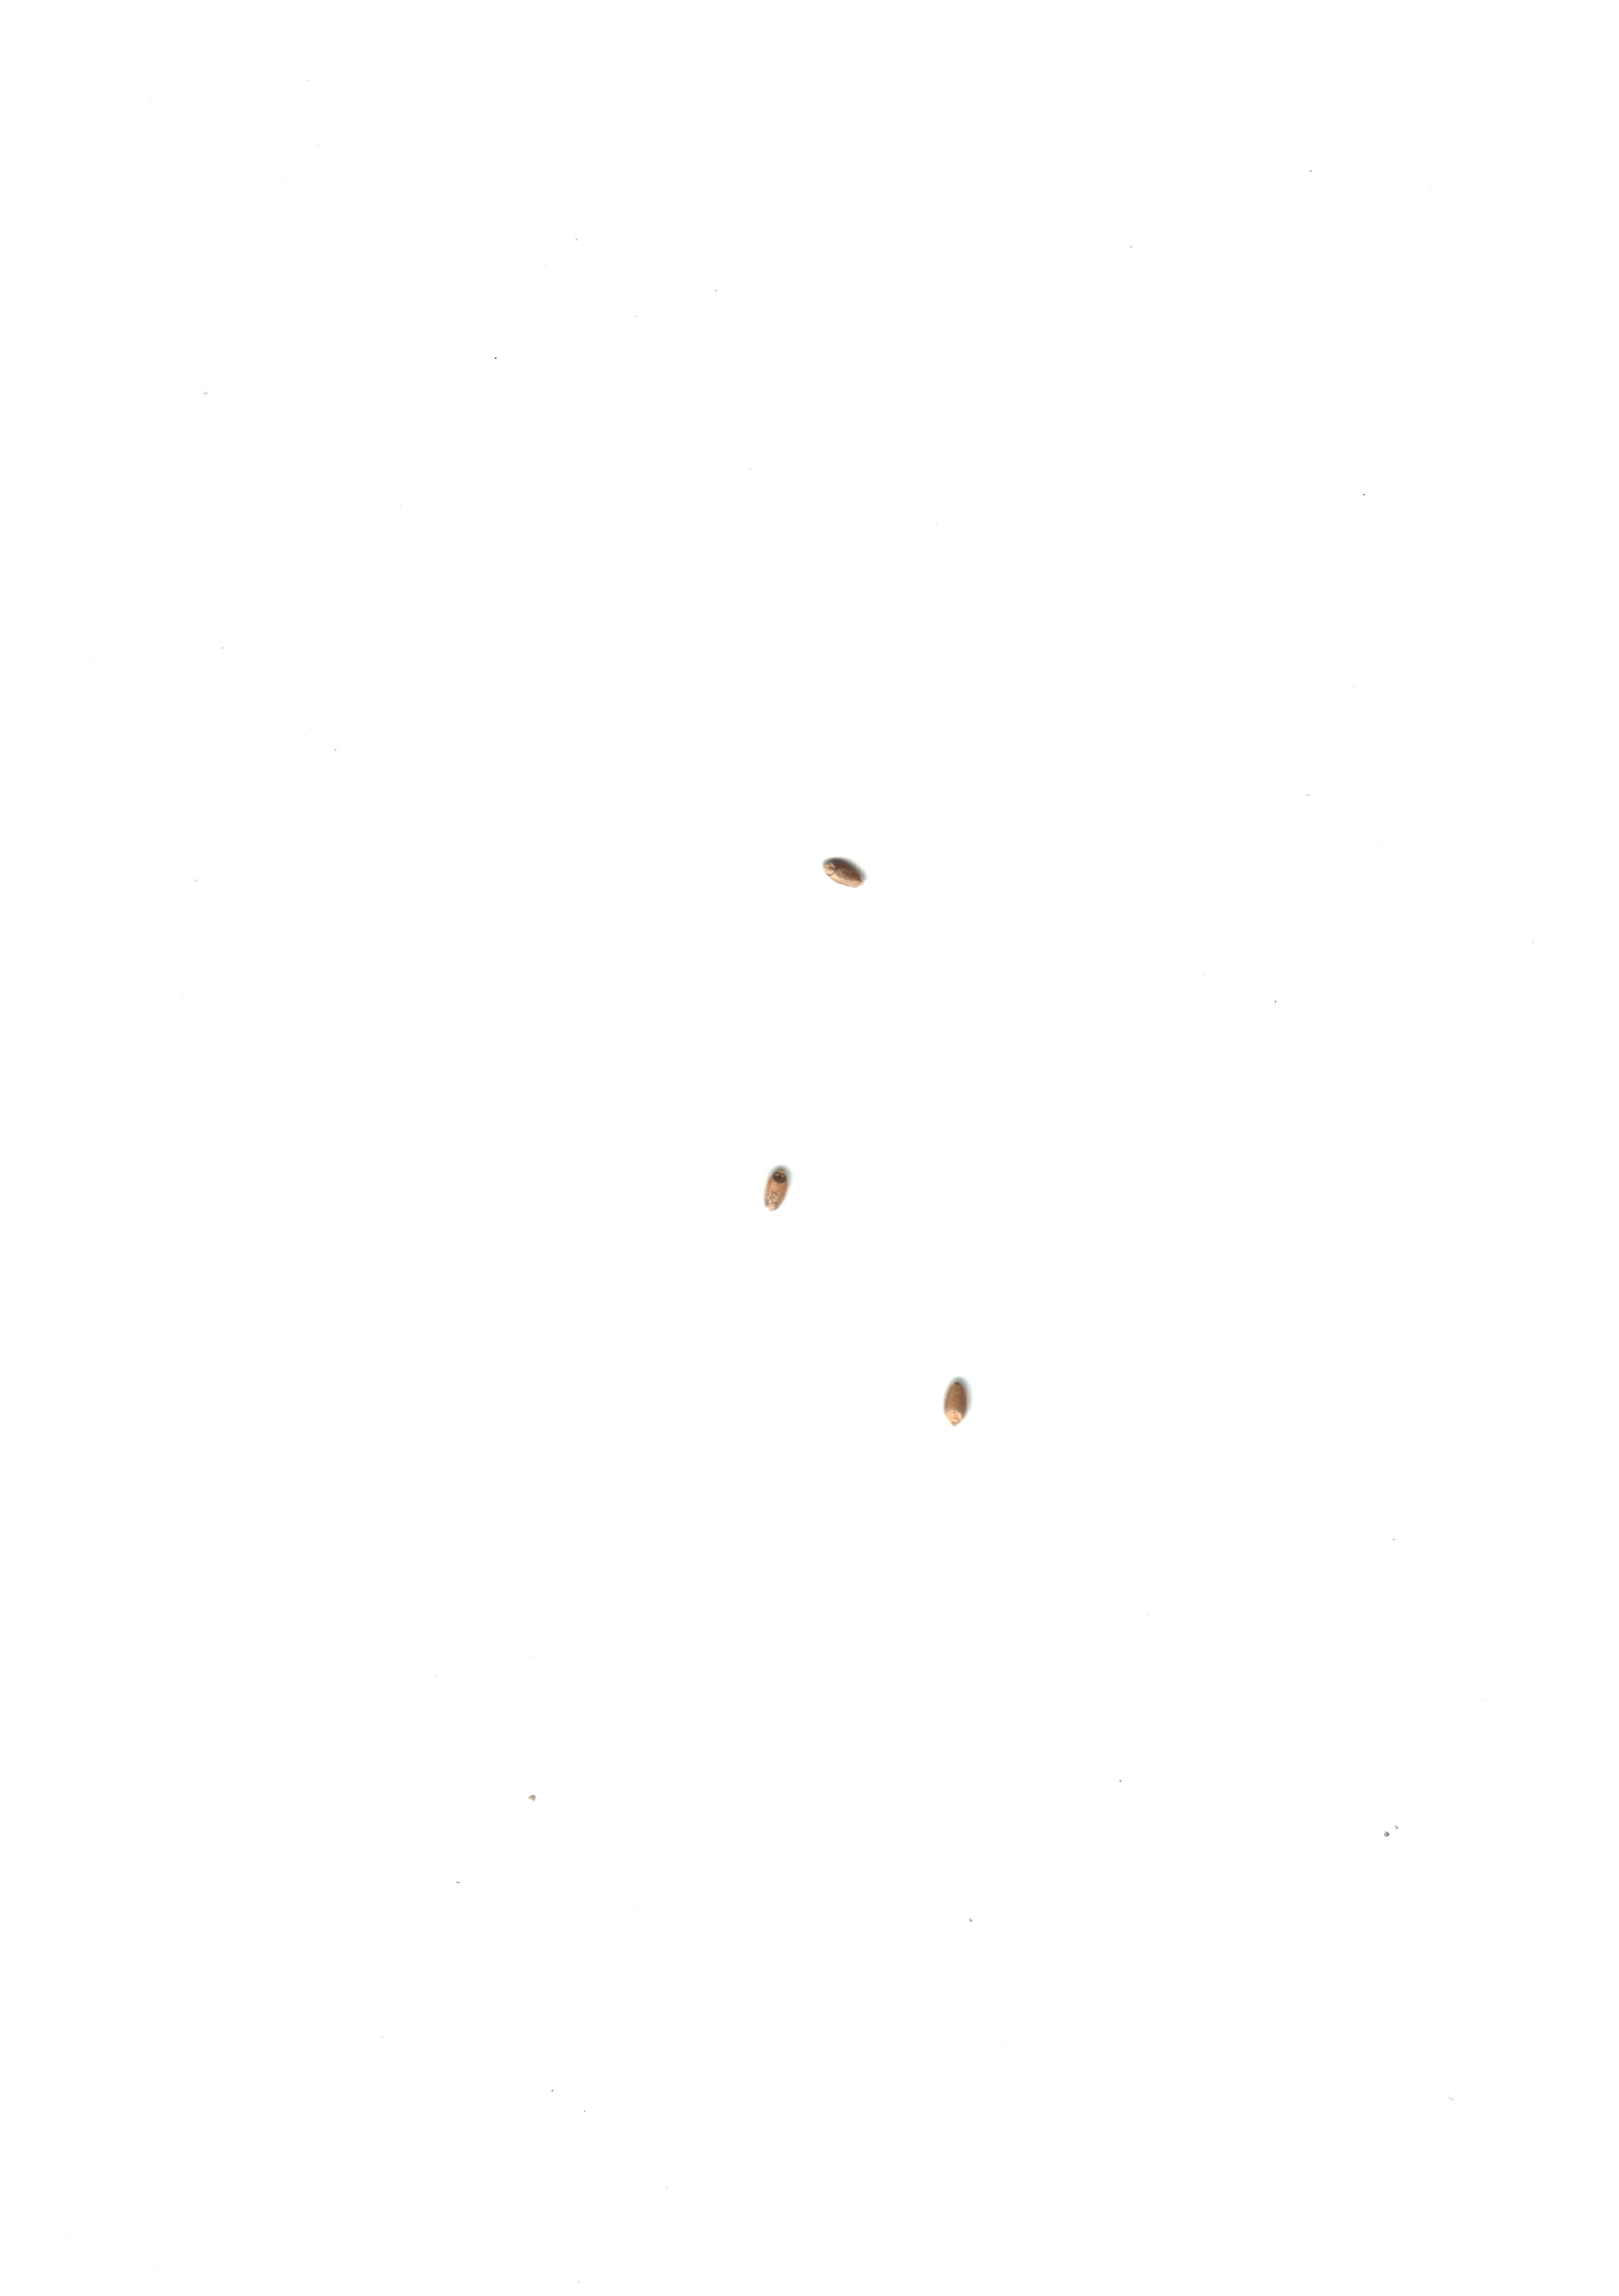grains_2_5mm: (734, 1143, 817, 1232), (916, 1353, 999, 1442), (802, 834, 883, 906)
